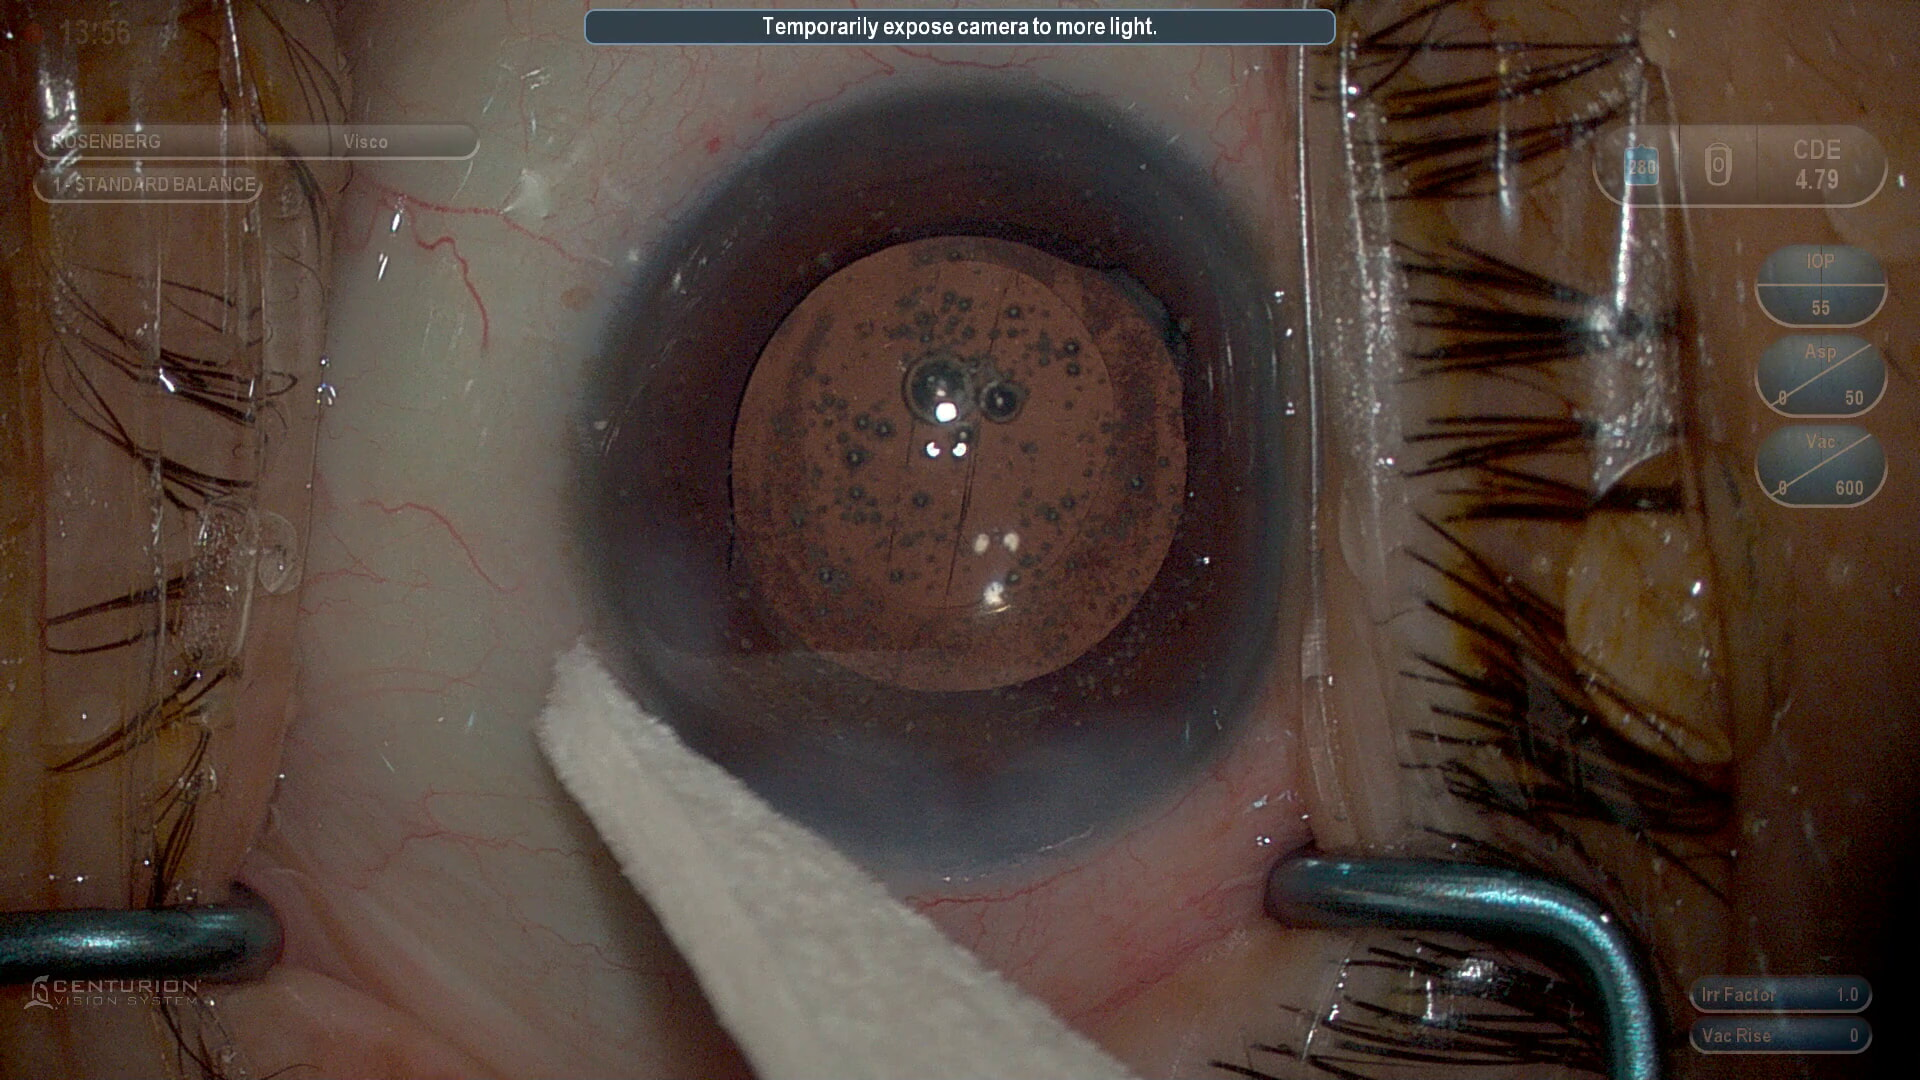iris: (603, 151, 1284, 824)
pupil: (732, 236, 1199, 692)
